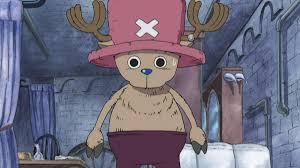chopper: (65, 1, 231, 93)
